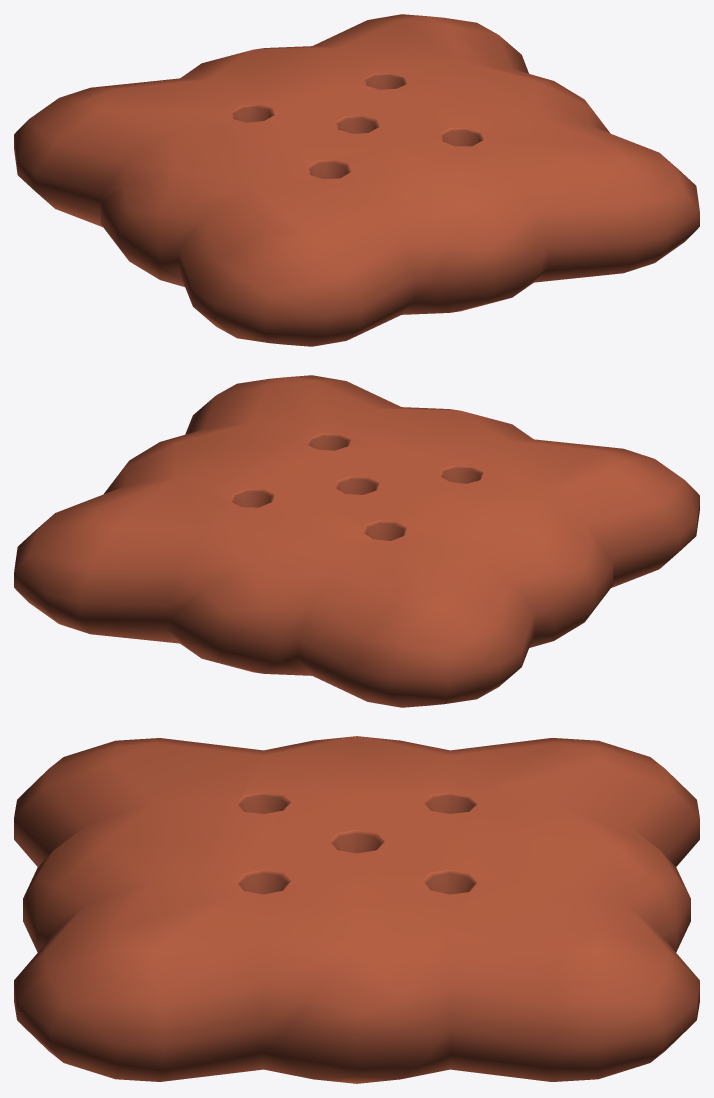
File: Biscuits_V3_00.fbx
3 views of the same model, one above another, from view 1: azimuth 30°, elevation 25°; view 2: azimuth 150°, elevation 25°; view 3: azimuth 270°, elevation 25° (orthographic). The views are drawn at different scales.
Visible parts, largest first — view 1: Biscuits_V3_00; view 2: Biscuits_V3_00; view 3: Biscuits_V3_00.
Boxes of the visible parts, left/top/right/bottom form: Biscuits_V3_00: left=14, top=14, right=699, bottom=346; Biscuits_V3_00: left=14, top=375, right=699, bottom=707; Biscuits_V3_00: left=14, top=736, right=699, bottom=1083.
Size of the model in its own units: 23.66 by 5.77 by 23.66.
